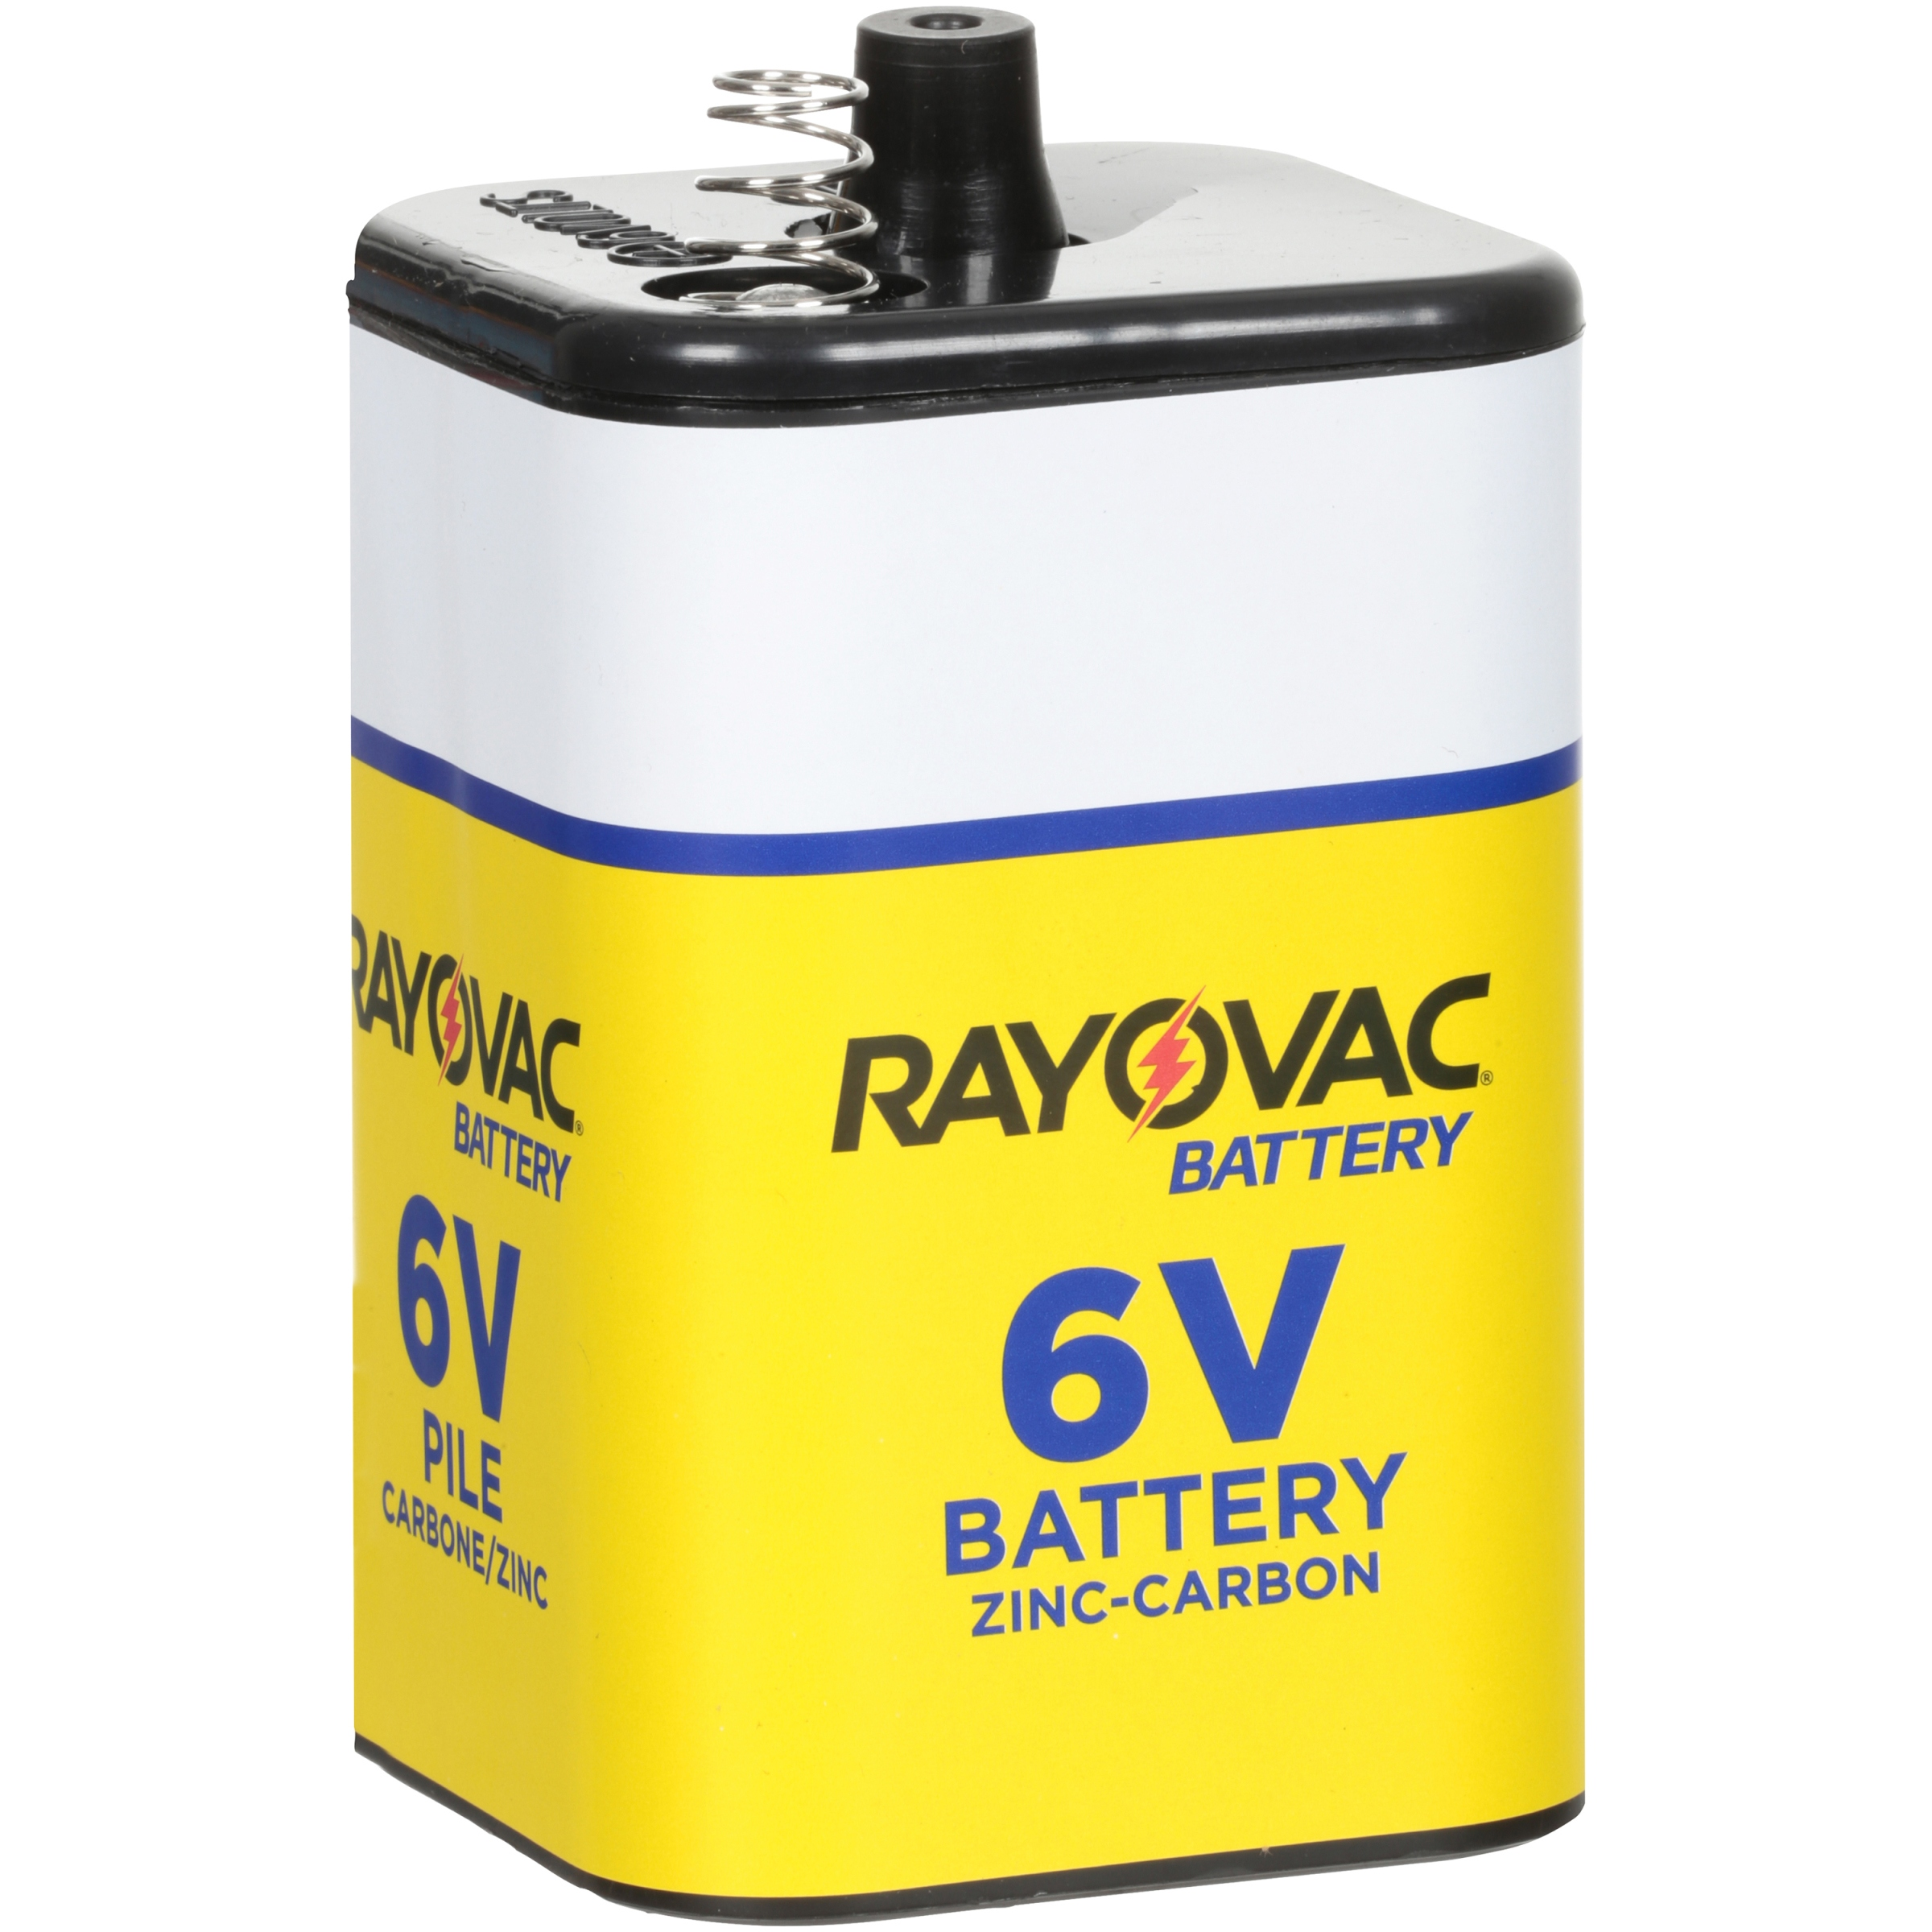6V: (258, 12, 1819, 1930)
